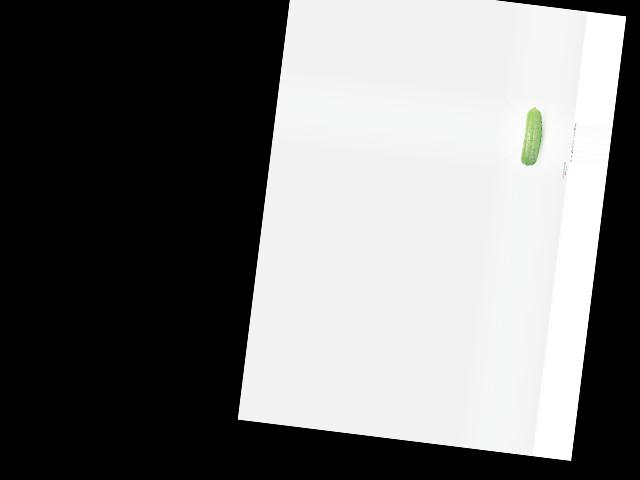cucumber: (520, 105, 545, 168)
